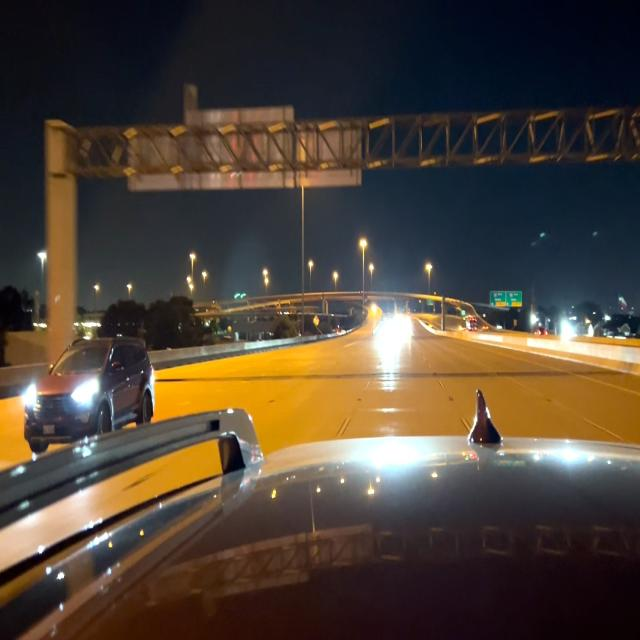back-of-sign: (131, 85, 362, 185)
